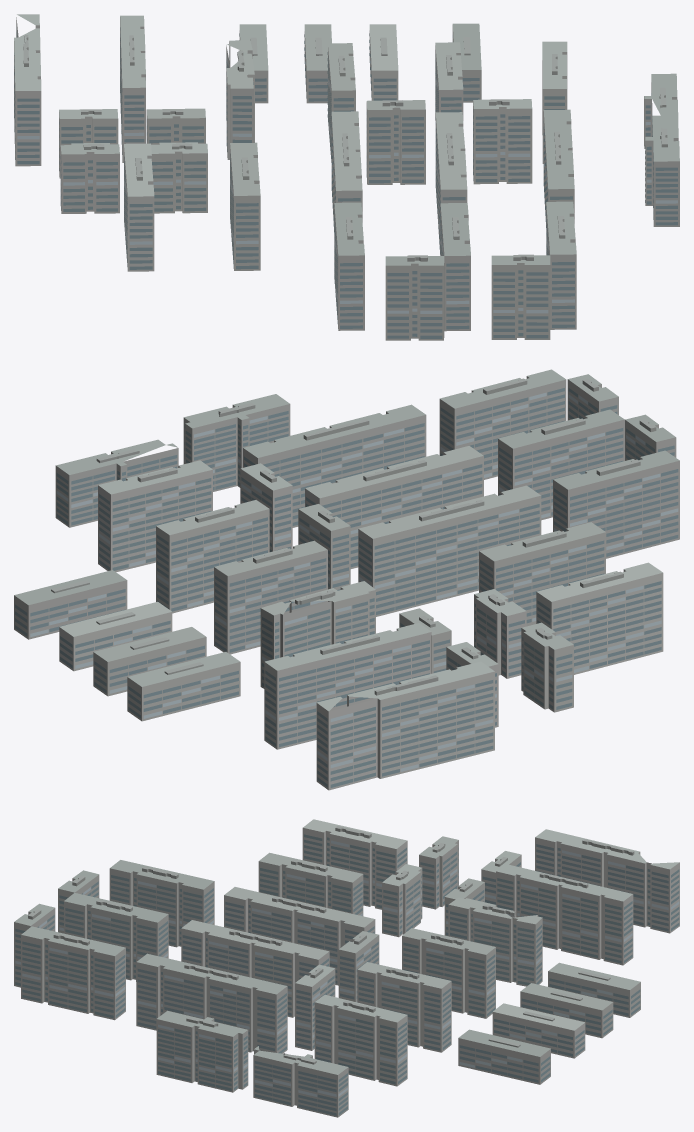
The model's file is apt-a13184610.glb.
3 views of the same model, one above another, from view 1: azimuth 30°, elevation 25°; view 2: azimuth 150°, elevation 25°; view 3: azimuth 270°, elevation 25° (orthographic). The views are drawn at different scales.
Visible parts, largest first — view 1: apt-a13184610; view 2: apt-a13184610; view 3: apt-a13184610.
Part boxes in pixels (box(x1,y1,x2,y2)): apt-a13184610: box(14, 14, 679, 340); apt-a13184610: box(14, 369, 679, 790); apt-a13184610: box(14, 819, 679, 1117).
Bounding box in the file's own units: 292 × 39 × 351.
